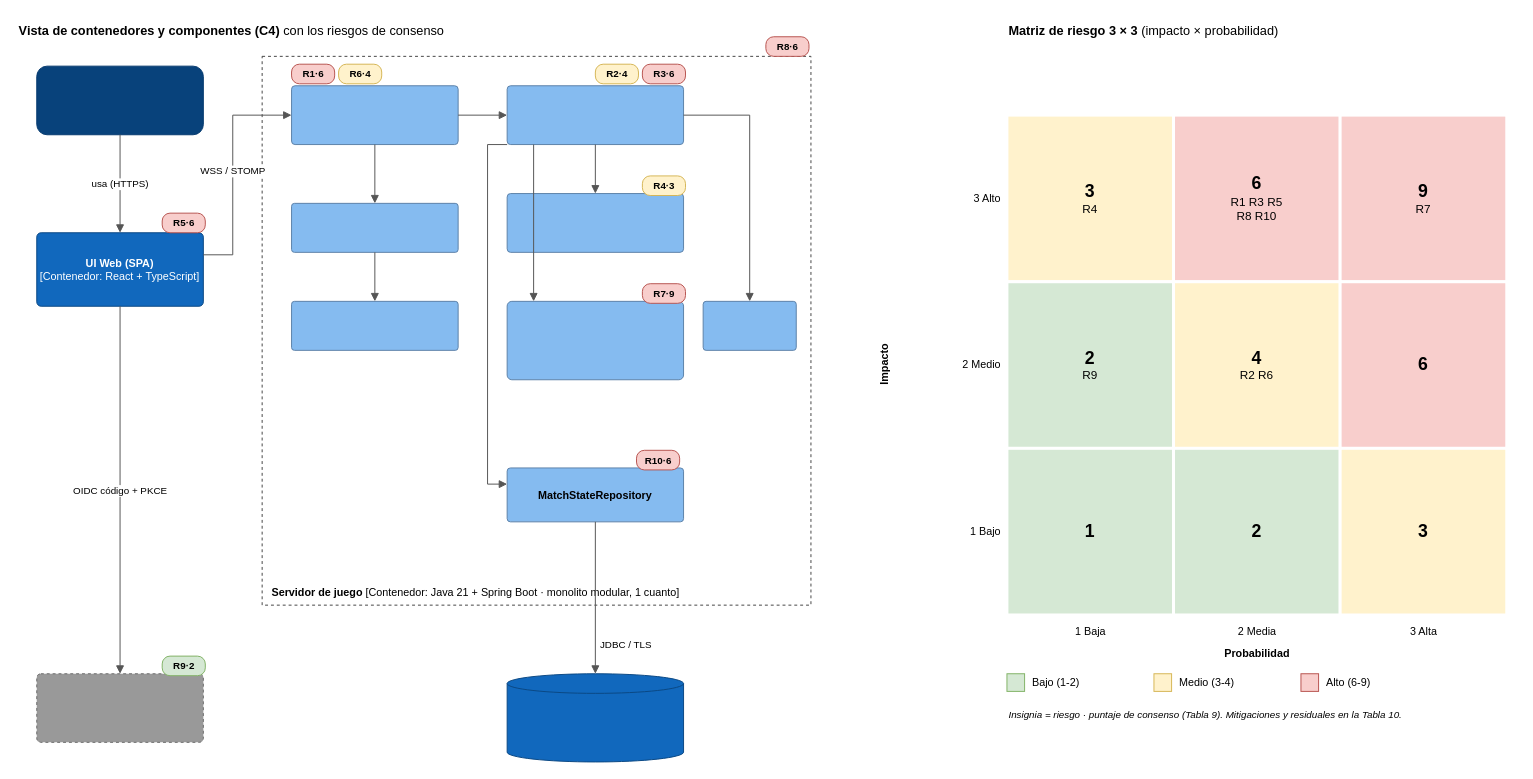
Some shapes in this 1533 by 779 pixel diagram are drawn without their labels. Here are the shapes that lost their labels. From the top down, the centre of each, then its label:
At pixel 119 100: "Jugador [Persona] juega desde su navegador".
At pixel 374 115: "SessionGateway [REST + STOMP]".
At pixel 595 115: "TurnOrchestrator Ce = 7 · estado en memoria".
At pixel 374 227: "LobbyParty".
At pixel 595 222: "DeckManagement DealAudit".
At pixel 374 325: "WagerAndEconomy".
At pixel 595 340: "domain.rules HandEvaluator · RoundScoring · GameConfiguration".
At pixel 749 325: "BotEngine".
At pixel 119 707: "Proveedor OIDC [Sistema externo]".
At pixel 595 717: "PostgreSQL 16 [Contenedor: base de datos]".
